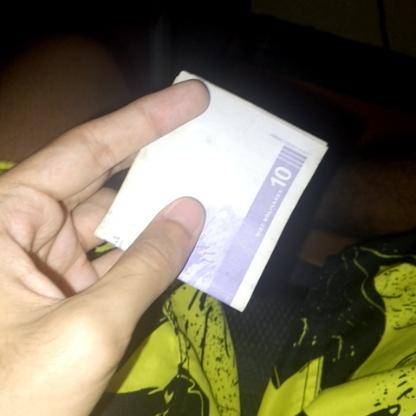ten-back-vef: (96, 67, 330, 313)
